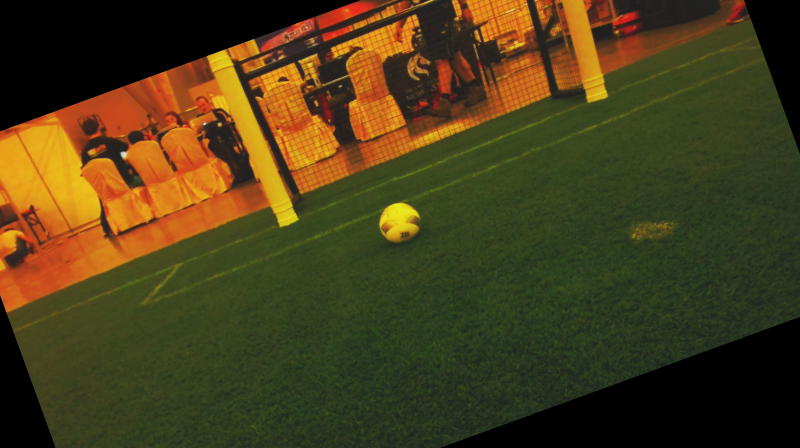post: (572, 70, 618, 112), (261, 194, 309, 234)
